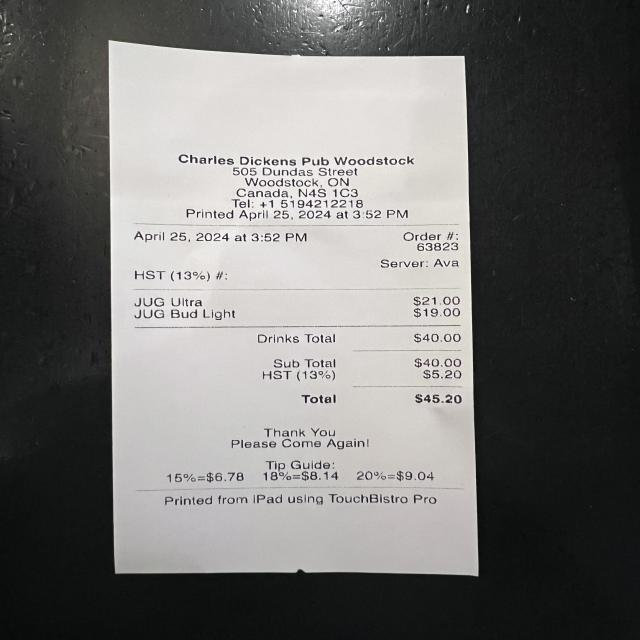item: (127, 292, 466, 310), (125, 307, 467, 324)
store_name: (172, 148, 421, 172)
total_amount: (294, 390, 470, 414)
transaction_date: (127, 227, 234, 248)
